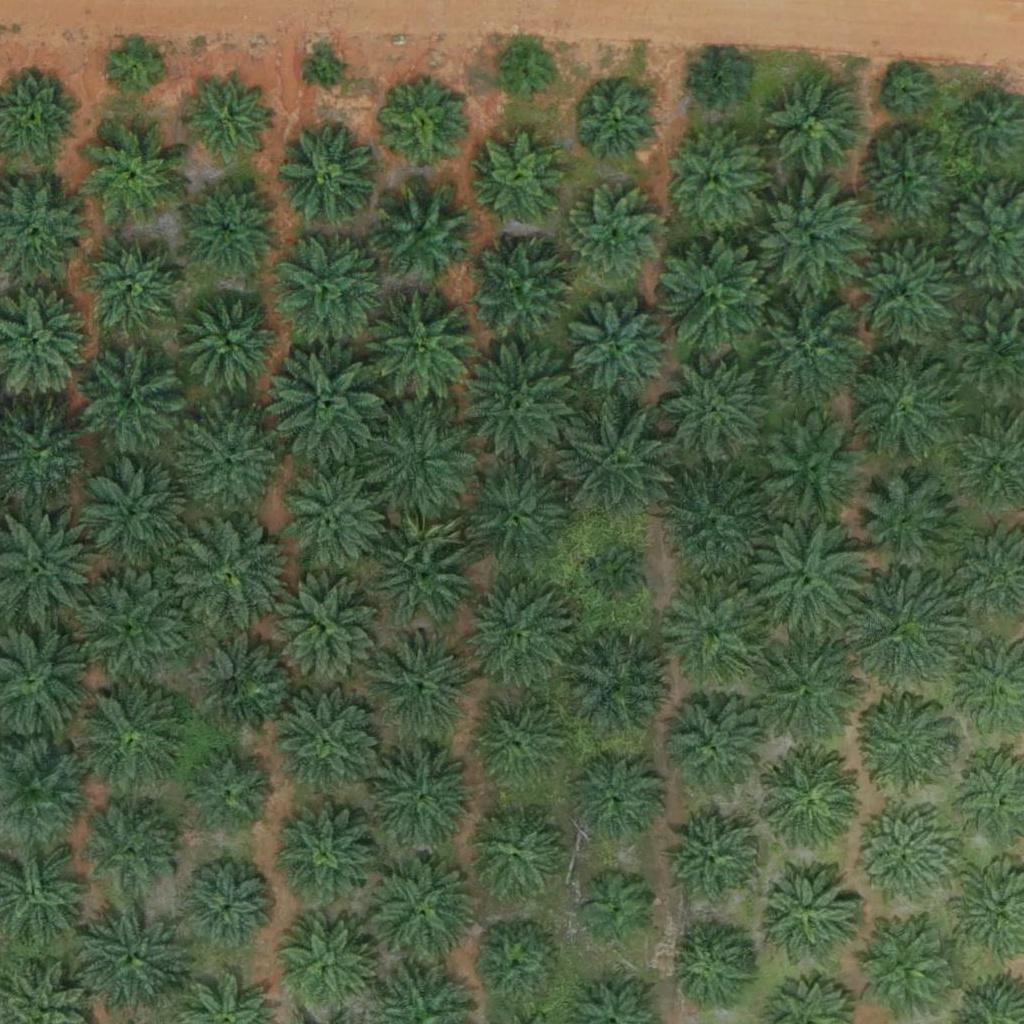Kelapa_Sawit: (262, 344, 387, 470), (355, 401, 480, 527), (451, 343, 576, 469), (556, 402, 681, 528), (657, 233, 782, 359), (653, 462, 778, 588), (740, 282, 865, 408), (750, 513, 875, 639), (845, 344, 970, 470), (840, 569, 965, 695), (746, 627, 871, 753), (165, 514, 290, 639), (841, 236, 966, 361), (72, 563, 197, 688), (72, 676, 197, 801), (365, 292, 478, 406), (465, 233, 578, 347), (564, 628, 677, 742), (457, 460, 570, 573), (462, 577, 575, 690), (754, 182, 867, 295), (755, 414, 868, 527), (850, 470, 963, 583), (370, 742, 483, 855), (367, 855, 480, 968), (662, 577, 774, 691), (271, 227, 383, 340), (274, 463, 386, 576), (364, 512, 476, 625), (565, 294, 677, 407), (656, 351, 768, 464), (461, 691, 573, 804), (366, 625, 478, 738), (77, 907, 189, 1020), (86, 125, 186, 226), (81, 240, 181, 341), (82, 354, 182, 455), (86, 458, 186, 559), (178, 177, 278, 278), (180, 293, 280, 394), (177, 409, 277, 510), (274, 581, 374, 682), (561, 187, 661, 288), (665, 128, 765, 229), (765, 76, 865, 177), (854, 130, 954, 231), (853, 696, 953, 797), (467, 805, 567, 906), (278, 695, 378, 796), (272, 806, 372, 907), (275, 919, 375, 1020), (186, 632, 286, 733), (83, 800, 183, 901), (278, 122, 378, 222), (373, 180, 473, 280), (855, 805, 955, 905), (854, 916, 954, 1016), (758, 754, 858, 854), (758, 864, 858, 964), (658, 698, 758, 798), (665, 811, 765, 911), (566, 753, 666, 853), (183, 752, 271, 841), (183, 77, 271, 165), (476, 132, 564, 220), (575, 81, 663, 169), (469, 921, 557, 1009), (180, 864, 268, 952), (382, 86, 469, 174), (662, 923, 749, 1011), (577, 868, 652, 944), (586, 548, 649, 611), (687, 51, 750, 114), (102, 32, 164, 95), (497, 44, 559, 107), (882, 68, 932, 118), (309, 52, 346, 90)
